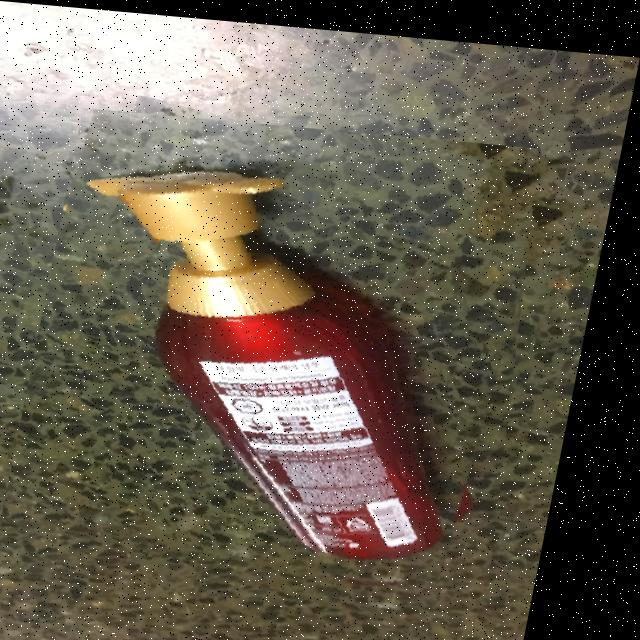litter: (13, 105, 580, 607), (75, 151, 334, 289)
